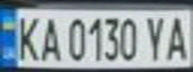0: (63, 14, 87, 62), (118, 14, 142, 62)
1: (84, 14, 106, 62)
3: (103, 14, 121, 62)
A: (163, 11, 193, 62), (36, 12, 63, 62)
K: (12, 12, 42, 62)
Y: (142, 12, 169, 62)
